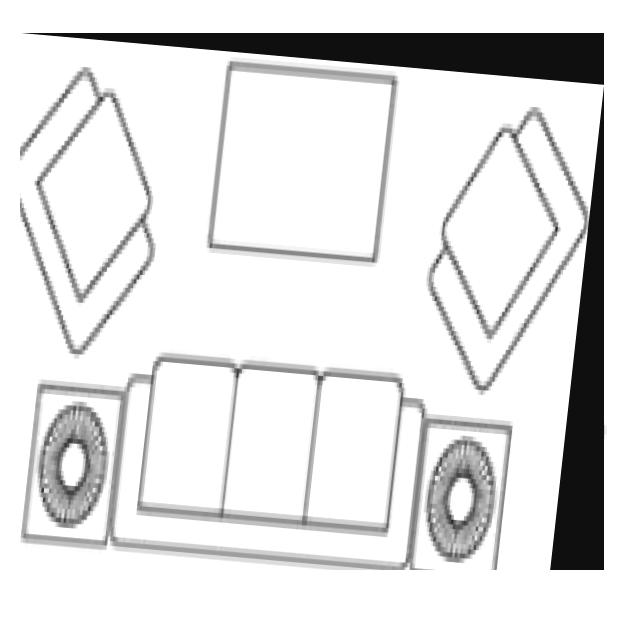sofa: (21, 33, 604, 570)
